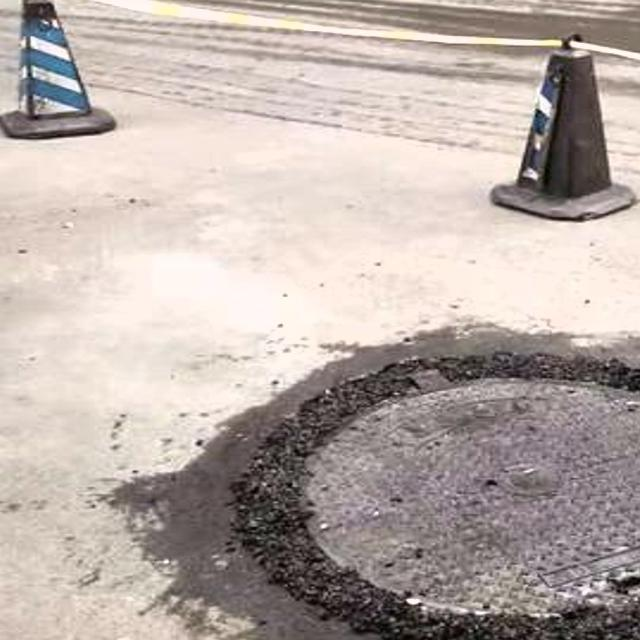good: (148, 311, 640, 640)
